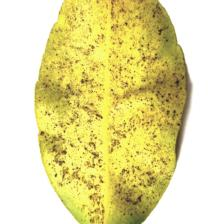canker: (56, 30, 168, 160)
